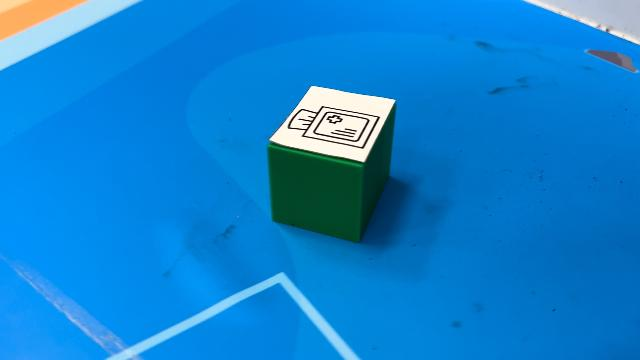napkin: (269, 89, 395, 245)
